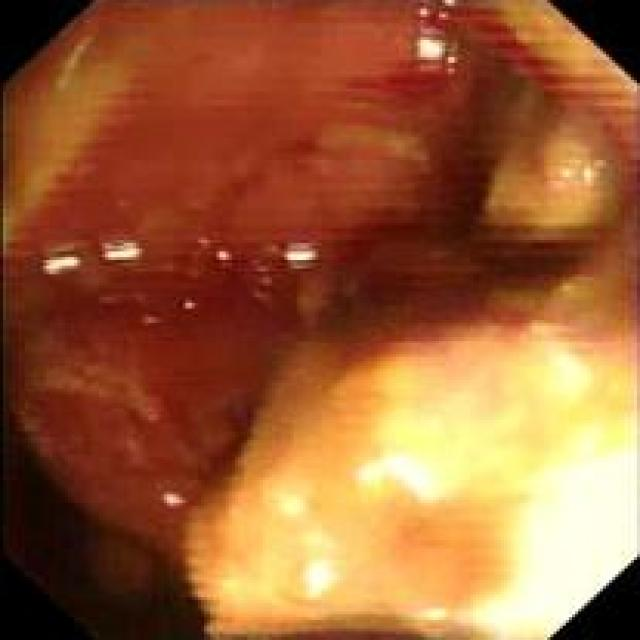contrast: (2, 411, 203, 635)
saturation: (278, 361, 637, 630)
specularity: (455, 424, 638, 635), (342, 443, 461, 507), (413, 0, 465, 74), (534, 335, 597, 395), (295, 549, 343, 606), (99, 235, 146, 266), (284, 240, 325, 273), (45, 248, 86, 276), (280, 490, 310, 523), (159, 488, 192, 512), (211, 245, 235, 271), (136, 307, 162, 329), (179, 293, 203, 312), (558, 164, 575, 183), (581, 162, 597, 181)
